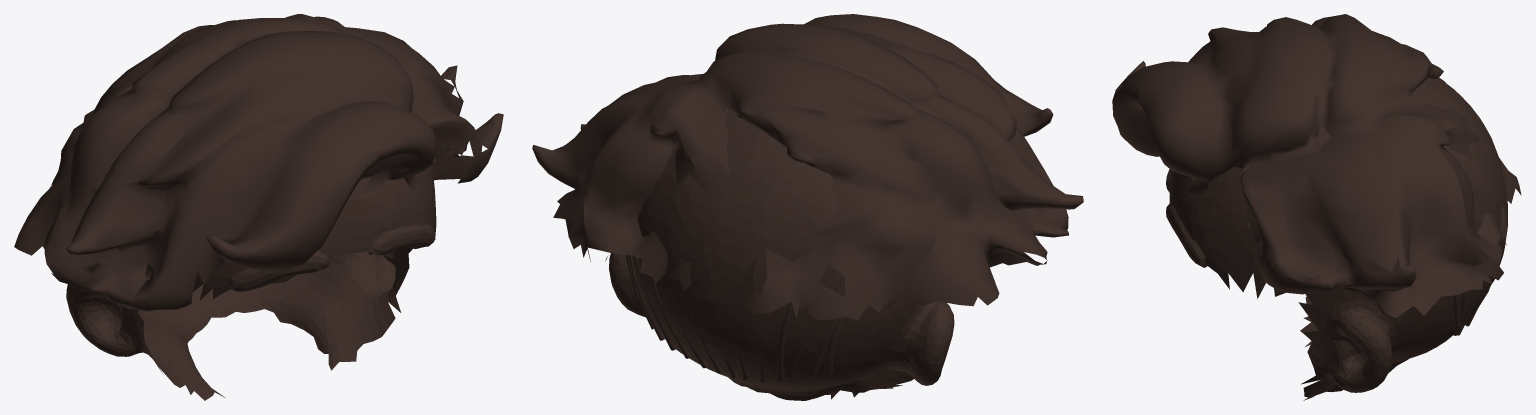
File: waves.glb
3 views of the same model, side by side, from view 1: azimuth 30°, elevation 25°; view 2: azimuth 150°, elevation 25°; view 3: azimuth 270°, elevation 25° (orthographic). The views are drawn at different scales.
Parts seen in each view (by area): view 1: Hair, HairScalp; view 2: Hair, HairScalp, HairPulledRootStrands; view 3: Hair, HairScalp, HairPulledRootStrands.
Part boxes in pixels (x1,y1,x2,y2): Hair: [14, 14, 503, 311]; HairScalp: [66, 165, 436, 400]; Hair: [532, 14, 1083, 320]; HairScalp: [609, 109, 954, 400]; HairPulledRootStrands: [626, 103, 848, 382]; Hair: [1112, 14, 1521, 317]; HairScalp: [1166, 77, 1507, 400]; HairPulledRootStrands: [1239, 100, 1503, 335].
Size of the model in its own units: 0.6449 by 0.4481 by 0.5022.
